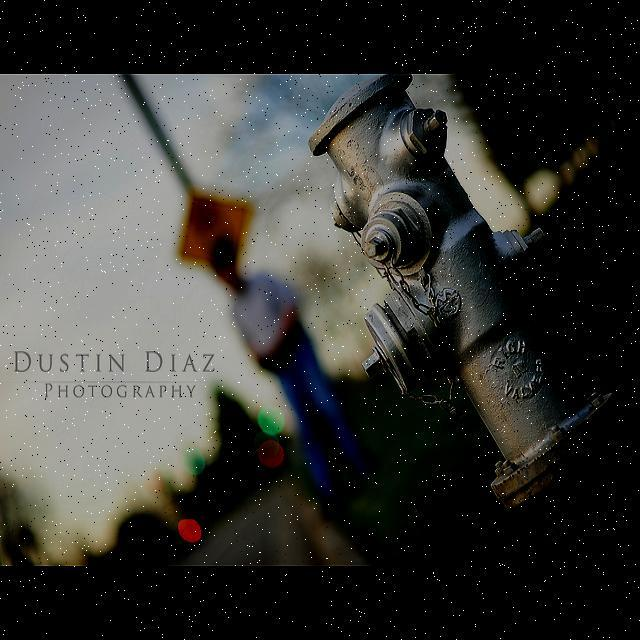fire_hydrant: (305, 73, 640, 587)
